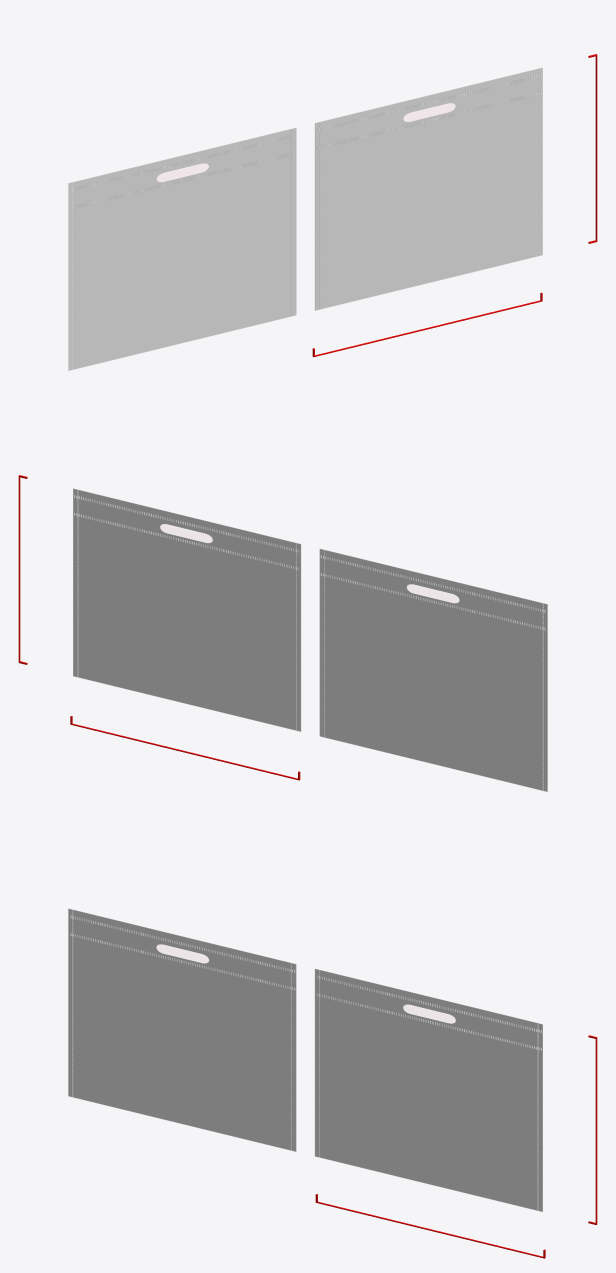
Rendered from 无纺布袋-平口袋.glb.
3 renders of one model, top to bottom at view 1: azimuth 30°, elevation 25°; view 2: azimuth 150°, elevation 25°; view 3: azimuth 330°, elevation 25°, orthographic.
Parts seen in each view (by area): view 1: bag, h, w; view 2: bag, h, w; view 3: bag, h, w.
Boxes of the visible parts, x1,y1,x2,y2 form: bag: (68,67,542,370); h: (588,54,597,243); w: (312,292,542,357); bag: (73,488,547,791); h: (18,475,27,664); w: (70,716,300,780); bag: (68,908,542,1211); h: (588,1035,597,1224); w: (315,1194,545,1258).
Size of the model in its own units: 0.7643 by 0.3402 by 0.00545.
Materials: 2 (1 with a texture image).
